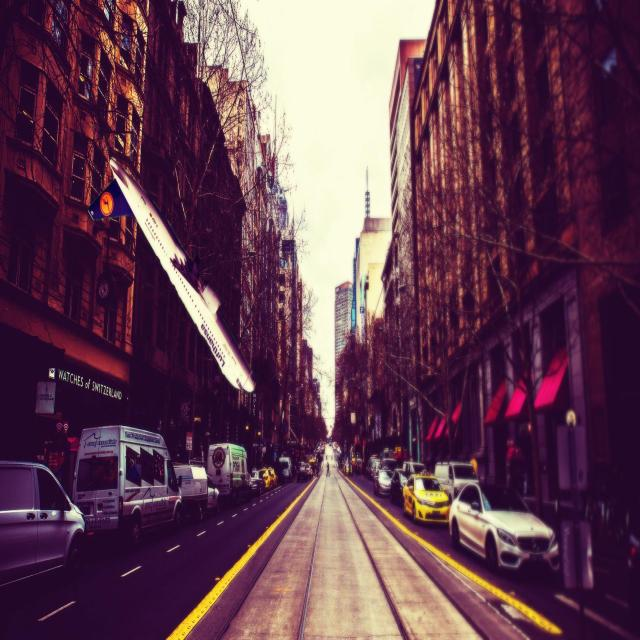airplane: (87, 155, 257, 395)
